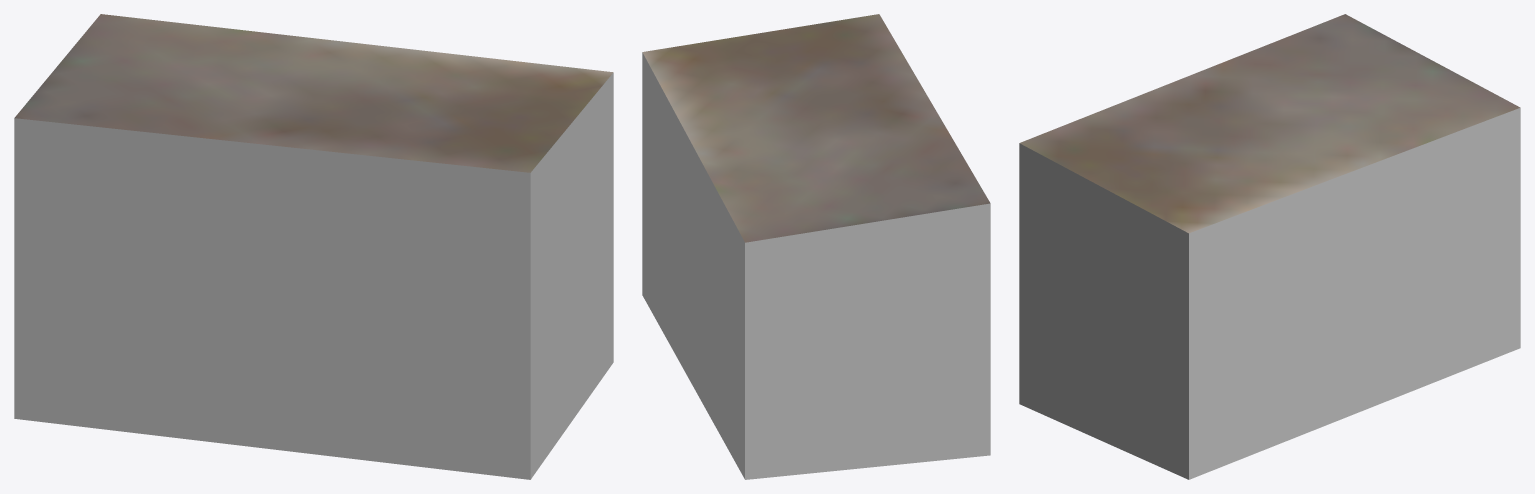
File: DEBW_0010007TxcV.gltf
3 renders of one model, left to right at view 1: azimuth 30°, elevation 25°; view 2: azimuth 150°, elevation 25°; view 3: azimuth 270°, elevation 25°, orthographic. The views are drawn at different scales.
Visible parts, largest first — view 1: Z_UP; view 2: Z_UP; view 3: Z_UP.
Boxes of the visible parts, x1,y1,x2,y2 form: Z_UP: [14, 14, 613, 479]; Z_UP: [642, 14, 990, 479]; Z_UP: [1019, 14, 1520, 479].
Size of the model in its own units: 6.02 by 3.48 by 6.06.
Materials: 2 (1 with a texture image).
